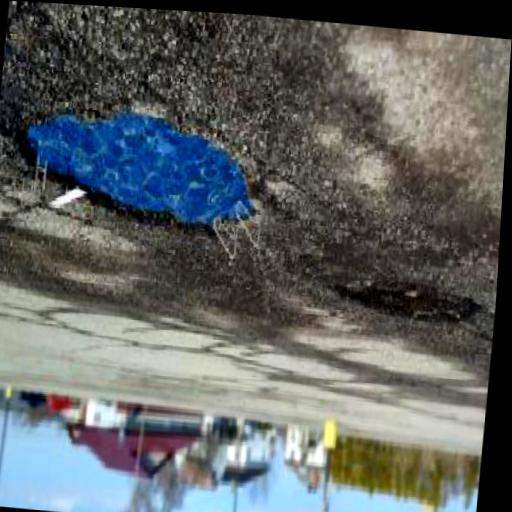pothole: (9, 104, 267, 246), (330, 275, 482, 333)
